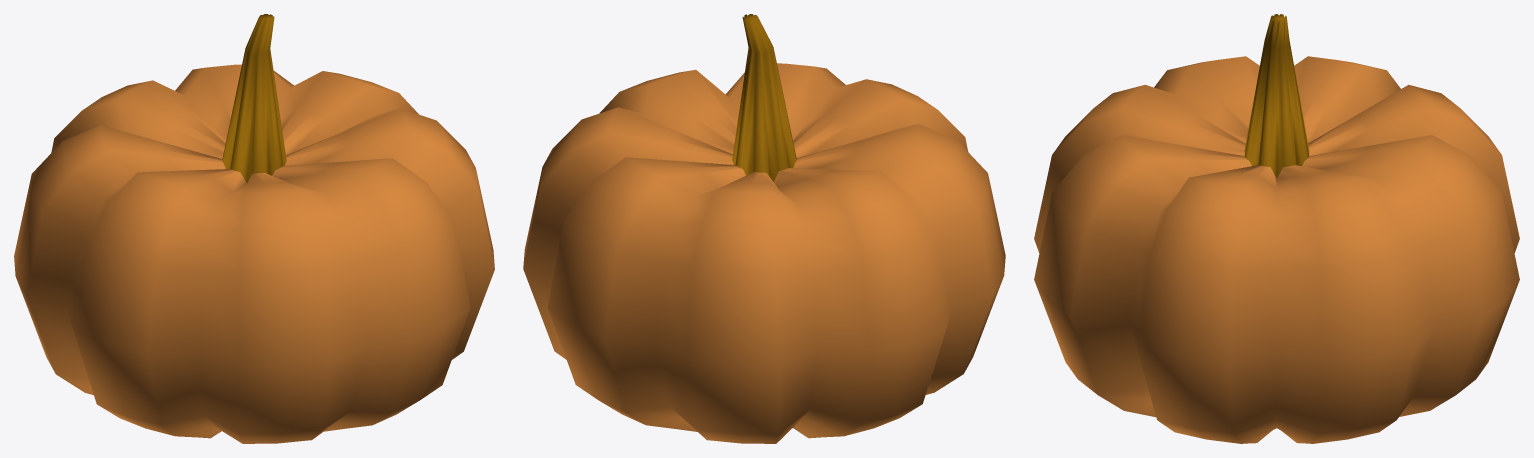
The model's file is pumpkin.fbx.
3 views of the same model, side by side, from view 1: azimuth 30°, elevation 25°; view 2: azimuth 150°, elevation 25°; view 3: azimuth 270°, elevation 25° (orthographic). The views are drawn at different scales.
Visible parts, largest first — view 1: Pumpkin; view 2: Pumpkin; view 3: Pumpkin.
Part boxes in pixels (<box>): Pumpkin: <box>14,14,494,443</box>; Pumpkin: <box>523,14,1005,443</box>; Pumpkin: <box>1034,14,1519,443</box>.
Size of the model in its own units: 784 by 704 by 784.
